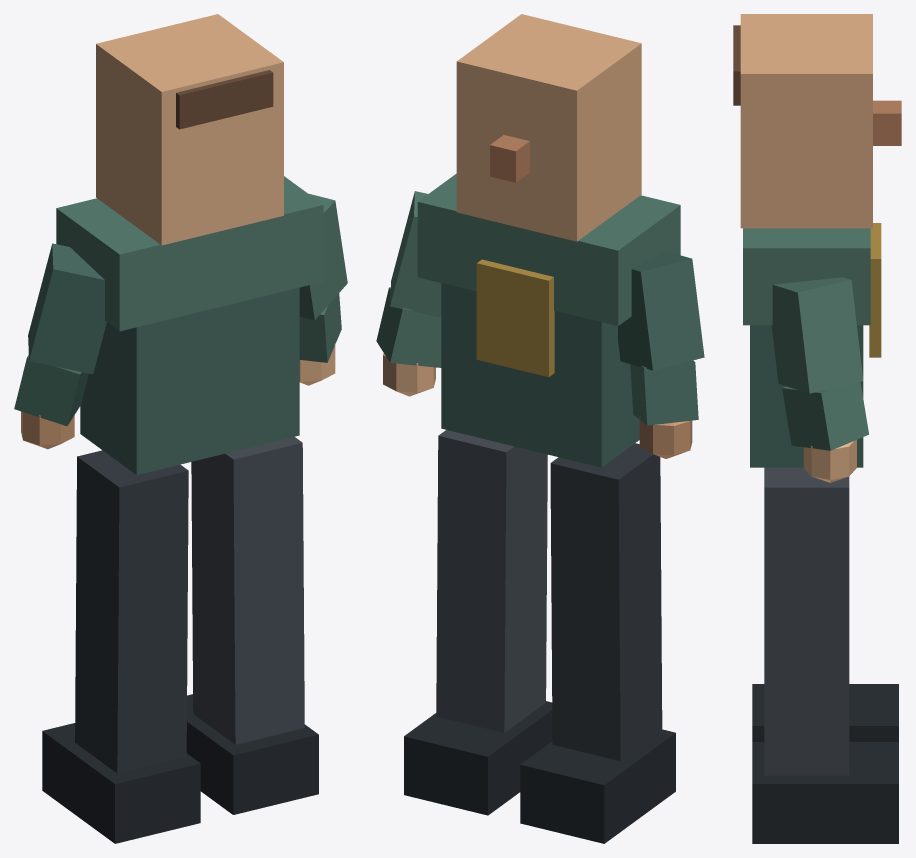
The model's file is lwf_performer_frontperson_body_v1.glb.
The picture shows the model from 3 angles, left to right: view 1: azimuth 30°, elevation 25°; view 2: azimuth 150°, elevation 25°; view 3: azimuth 270°, elevation 25°; orthographic projection. The views are drawn at different scales.
Parts seen in each view (by area): view 1: LWF_Guitarist_Body, LWF_Performer_IdleLeftArm, LWF_Performer_IdleRightArm, LWF_Performer_Hair; view 2: LWF_Guitarist_Body, LWF_Performer_IdleLeftArm, LWF_Performer_IdleRightArm; view 3: LWF_Guitarist_Body, LWF_Performer_IdleRightArm, LWF_Performer_Hair.
Part boxes in pixels (box(x1,y1,x2,y2)): LWF_Guitarist_Body: box(42, 14, 323, 843); LWF_Performer_IdleLeftArm: box(14, 243, 106, 449); LWF_Performer_IdleRightArm: box(299, 193, 347, 385); LWF_Performer_Hair: box(176, 70, 273, 129); LWF_Guitarist_Body: box(404, 14, 680, 843); LWF_Performer_IdleLeftArm: box(618, 251, 704, 458); LWF_Performer_IdleRightArm: box(376, 191, 441, 396); LWF_Guitarist_Body: box(740, 14, 901, 843); LWF_Performer_IdleRightArm: box(771, 277, 868, 482); LWF_Performer_Hair: box(733, 25, 740, 105).
Size of the model in its own units: 0.8041 by 1.75 by 0.3555.
Materials: 1 (1 with a texture image).
